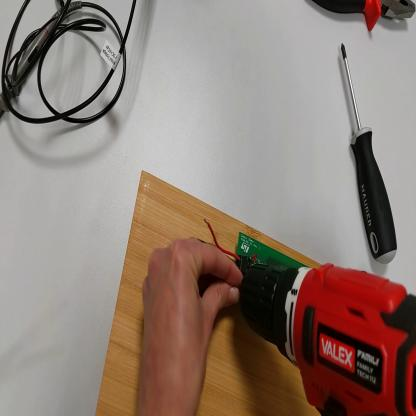electric screwdriver: (241, 263, 416, 416)
hand: (137, 240, 243, 414)
high voltage board: (206, 219, 305, 271)
oscilloscope probe tip: (2, 3, 81, 122)
pliers: (309, 1, 416, 30)
screwdriver-: (340, 42, 399, 262)
working area: (96, 171, 321, 416)
